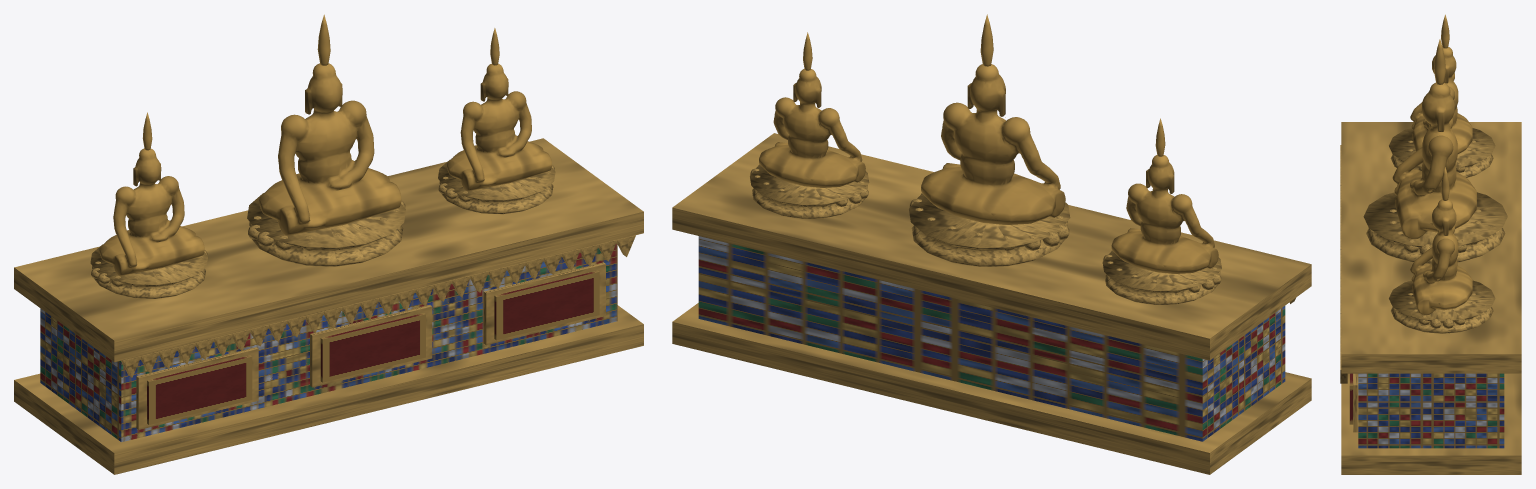
Rendered from BuddhaTrio.fbx.
3 renders of one model, left to right at view 1: azimuth 30°, elevation 25°; view 2: azimuth 150°, elevation 25°; view 3: azimuth 270°, elevation 25°, orthographic. The views are drawn at different scales.
Parts seen in each view (by area): view 1: BuddhaTrio_Base, Buddha_Center, BuddhaTrio_Plaques, Buddha_Right, Buddha_Left; view 2: BuddhaTrio_Base, Buddha_Center, Buddha_Left, Buddha_Right; view 3: BuddhaTrio_Base, Buddha_Center, Buddha_Right, Buddha_Left, BuddhaTrio_Plaques.
Part boxes in pixels (x1,y1,x2,y2): BuddhaTrio_Base: [14, 138, 643, 474]; Buddha_Center: [247, 14, 405, 266]; BuddhaTrio_Plaques: [147, 270, 599, 424]; Buddha_Right: [438, 28, 555, 214]; Buddha_Left: [90, 112, 207, 298]; BuddhaTrio_Base: [672, 133, 1311, 474]; Buddha_Center: [909, 14, 1070, 266]; Buddha_Left: [1102, 118, 1221, 305]; Buddha_Right: [750, 32, 869, 218]; BuddhaTrio_Base: [1340, 122, 1521, 474]; Buddha_Center: [1363, 39, 1507, 263]; Buddha_Right: [1389, 167, 1495, 333]; Buddha_Left: [1389, 14, 1495, 177]; BuddhaTrio_Plaques: [1349, 373, 1353, 424].
Bounding box in the file's own units: 358 × 230 × 118.
1 material, 1 textured.
